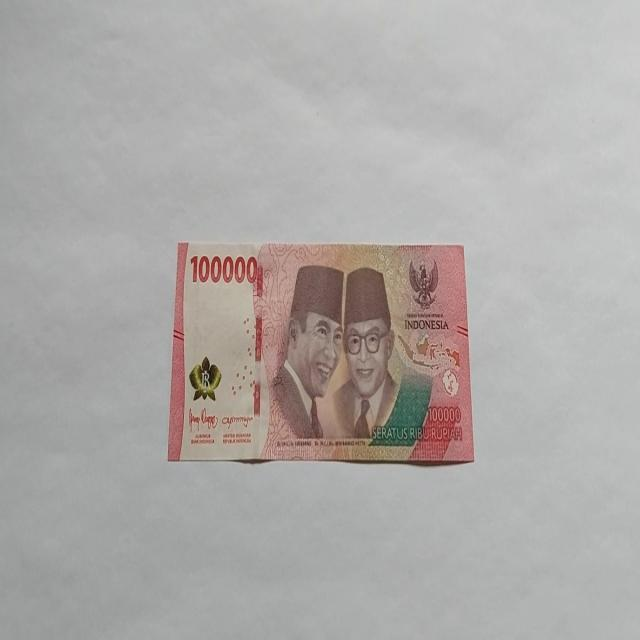seratus ribu rupiah: (168, 239, 474, 465), (260, 263, 344, 458), (330, 266, 401, 441)
